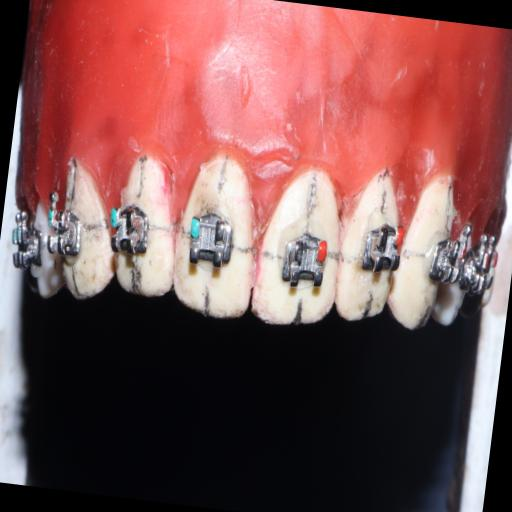incorrect_brace: (273, 220, 336, 296), (184, 204, 239, 281)
